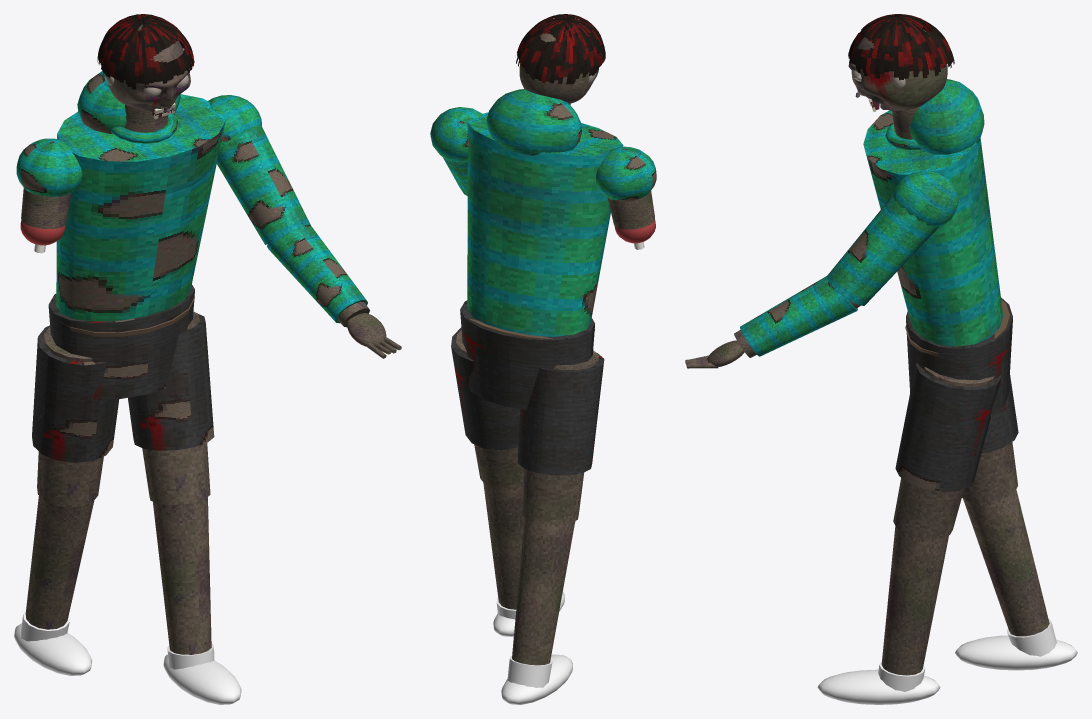
The model's file is Zombie_110.glb.
3 views of the same model, side by side, from view 1: azimuth 30°, elevation 25°; view 2: azimuth 150°, elevation 25°; view 3: azimuth 270°, elevation 25° (orthographic). The views are drawn at different scales.
Parts seen in each view (by area): view 1: Zombie_110, object 36, object 4, object 10, object 5; view 2: Zombie_110, object 36, object 10; view 3: Zombie_110, object 36, object 4, object 10, object 5, object 35.
Boxes of the visible parts, bbox=[...] form: Zombie_110: bbox=[14, 71, 310, 704]; object 36: bbox=[97, 14, 194, 87]; object 4: bbox=[267, 224, 367, 323]; object 10: bbox=[106, 24, 190, 112]; object 5: bbox=[347, 313, 386, 346]; Zombie_110: bbox=[430, 89, 656, 704]; object 36: bbox=[516, 14, 605, 82]; object 10: bbox=[519, 33, 598, 103]; Zombie_110: bbox=[817, 79, 1077, 704]; object 36: bbox=[848, 14, 954, 76]; object 4: bbox=[740, 276, 857, 356]; object 10: bbox=[848, 29, 947, 112]; object 5: bbox=[706, 340, 744, 366]; object 35: bbox=[852, 22, 951, 80].
Size of the model in its own units: 0.6819 by 1.7 by 0.9133.
Materials: 18 (6 with a texture image).
